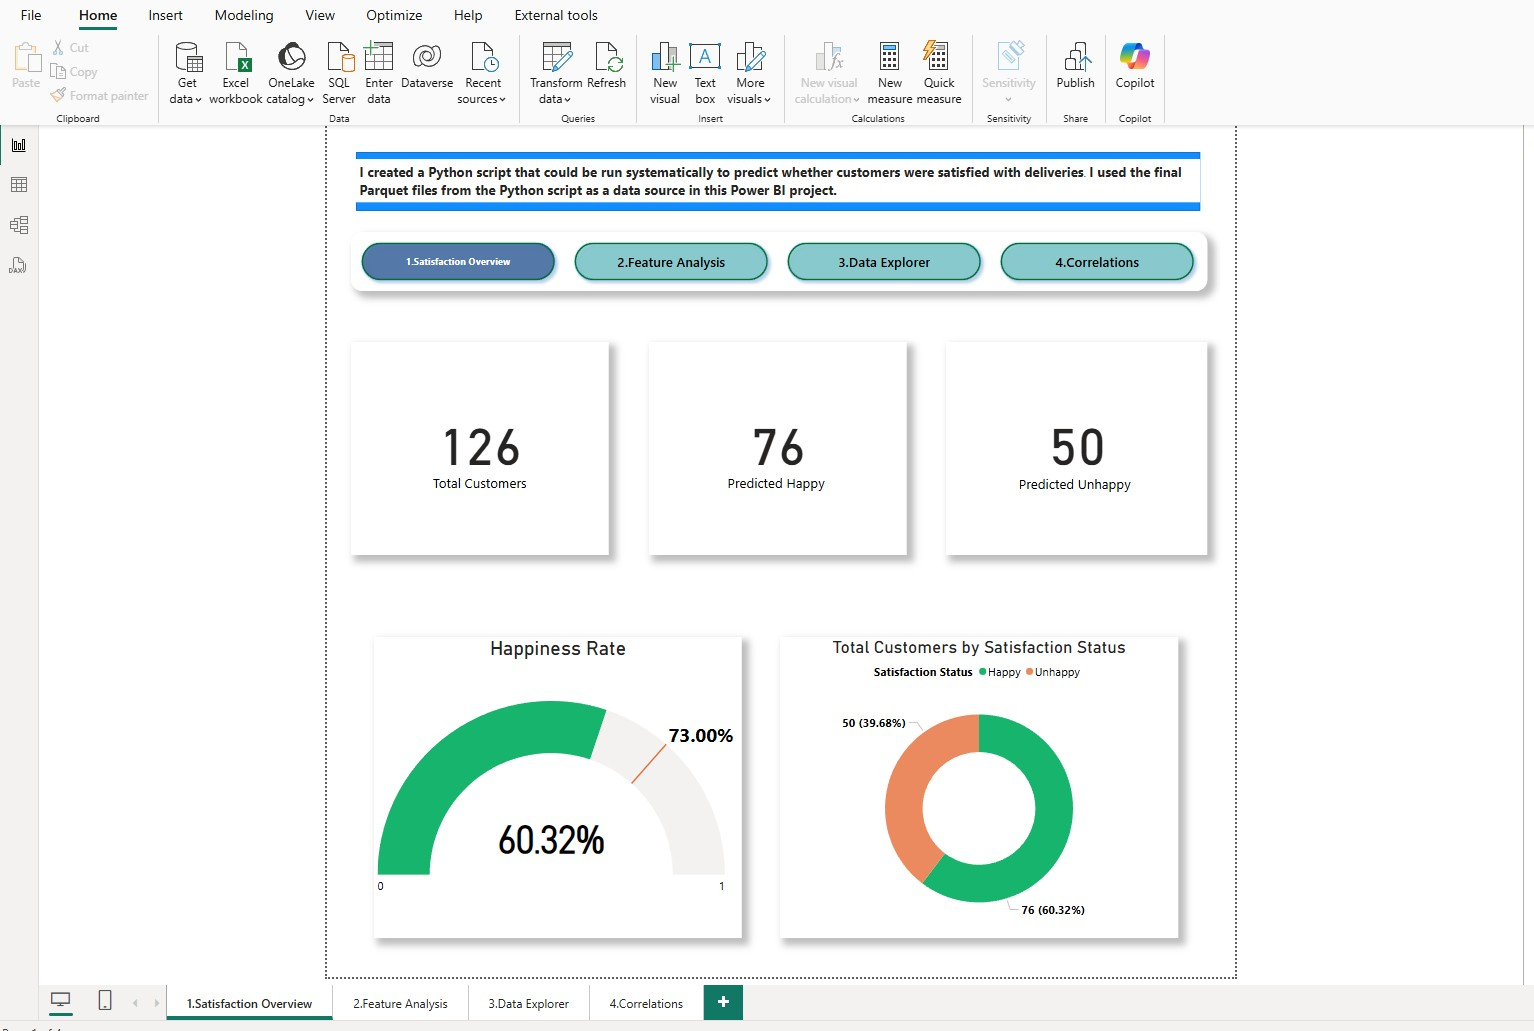

This screenshot's page, from the dashboard's own definition file:
{"tool":"powerbi","page":{"name":"1.Satisfaction Overview","canvas":[1280,1200],"ordinal":0},"visuals":[{"type":"shape","box":[40.8,38,1188.7,83.1],"z":0,"group":"g1"},{"type":"card","fields":{"Values":["Measures_all.Total Customers"]},"box":[33.8,305.6,363.4,300],"z":0},{"type":"textbox","box":[40.8,47.9,1188.7,60.6],"z":1000,"group":"g1"},{"type":"card","fields":{"Values":["Measures_all.Predicted Happy Count"]},"box":[452.8,305.6,363.4,300],"z":1000},{"type":"card","fields":{"Values":["Measures_all.Predicted Unhappy Count"]},"box":[871.8,305.6,367.6,300],"z":2000},{"type":"gauge","title":"Happiness Rate","fields":{"Y":["Measures_all.Happiness Rate"],"TargetValue":["Measures_all.Target value"],"MinValue":["Measures_all.Min Happiness Rate"],"MaxValue":["Measures_all.Max Hapiness Reate"]},"box":[66.2,721.1,518.3,423.9],"z":3000},{"type":"donutChart","fields":{"Category":["Predictions.Satisfaction Status"],"Y":["Measures_all.Total Customers"]},"box":[638,721.1,560.6,423.9],"z":4000},{"type":"group","id":"g1","title":"Head","box":[40.8,38,1188.7,83.1],"z":4001},{"type":"pageNavigator","title":"Right MENU","box":[33.8,150.7,1205.6,83.1],"z":4003}]}

Visuals, with their boxes on the page's 1280x1200 design canvas (x1, y1, x2, y2). These are canvas units, not pixel positions in the 1534x1031 screenshot, which may show the page scaled, cropped or inside an application window:
shape: select_region(41, 38, 1230, 121)
card - Measures_all.Total Customers: select_region(34, 306, 397, 606)
textbox: select_region(41, 48, 1230, 108)
card - Measures_all.Predicted Happy Count: select_region(453, 306, 816, 606)
card - Measures_all.Predicted Unhappy Count: select_region(872, 306, 1239, 606)
"Happiness Rate" gauge: select_region(66, 721, 584, 1145)
donutChart - Predictions.Satisfaction Status x Measures_all.Total Customers: select_region(638, 721, 1199, 1145)
"Head" group: select_region(41, 38, 1230, 121)
"Right MENU" pageNavigator: select_region(34, 151, 1239, 234)
